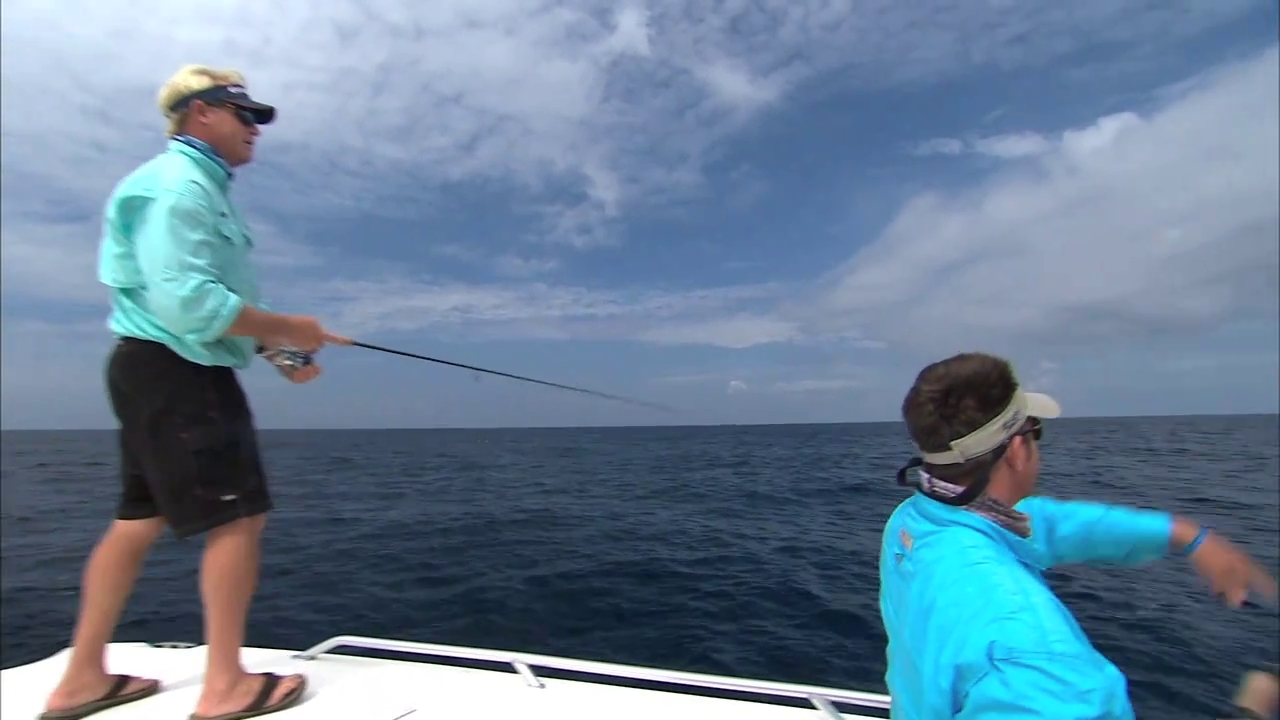person: (42, 63, 353, 719), (878, 352, 1278, 720)
